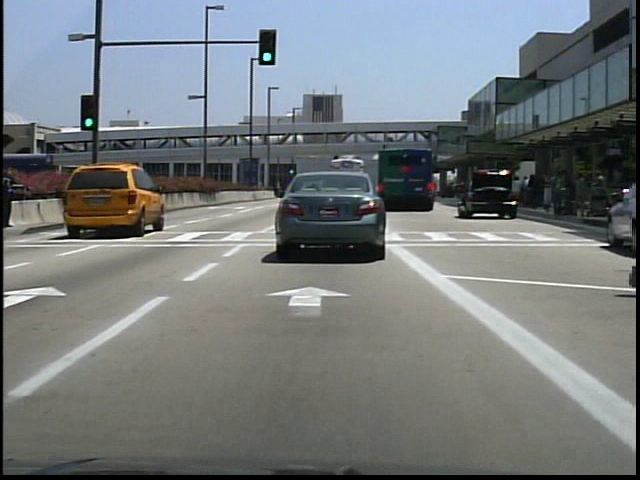person: (2, 163, 22, 227)
